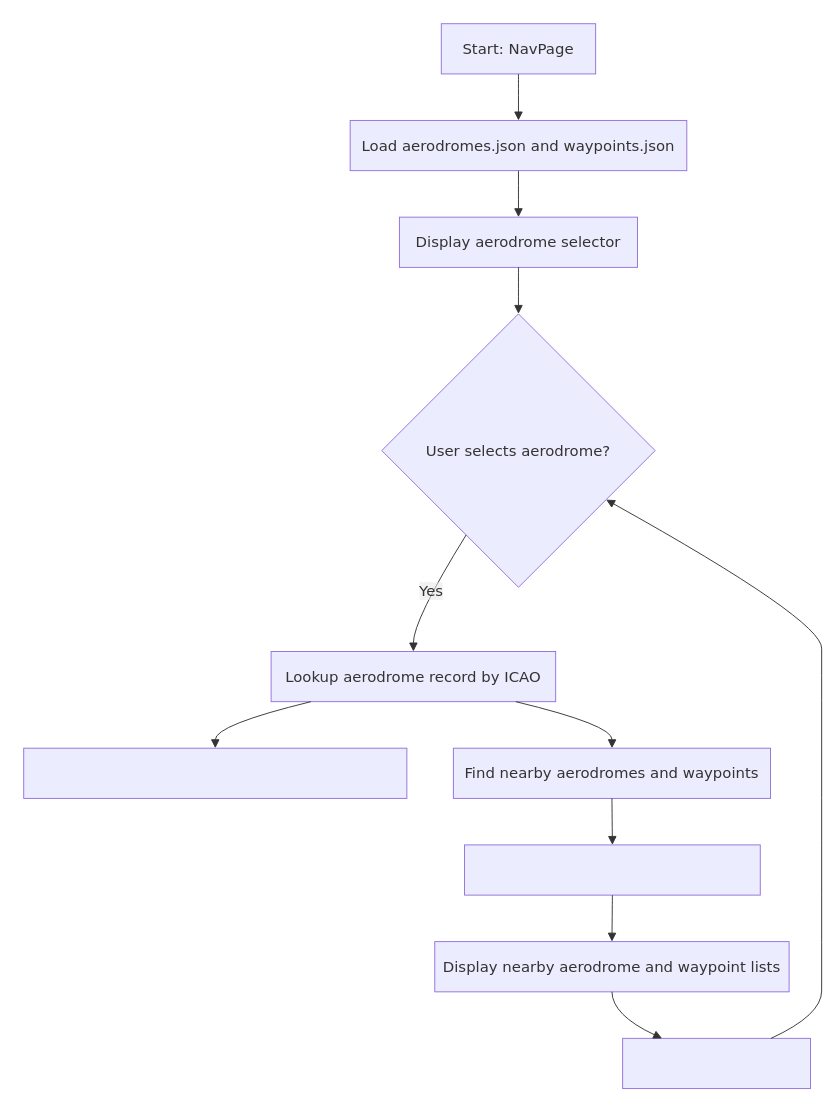
The diagram is 838 pixels wide and 1105 high, and some of its shapes have lost their labels. The shapes that lost their labels are listed below. From the top down, each one's centre as x and y in pixels, then its label:
point 215,772: Display elevation, frequency, circuit, restrictions
point 612,869: Sort nearby aerodromes by distance
point 716,1063: Render map/legend
